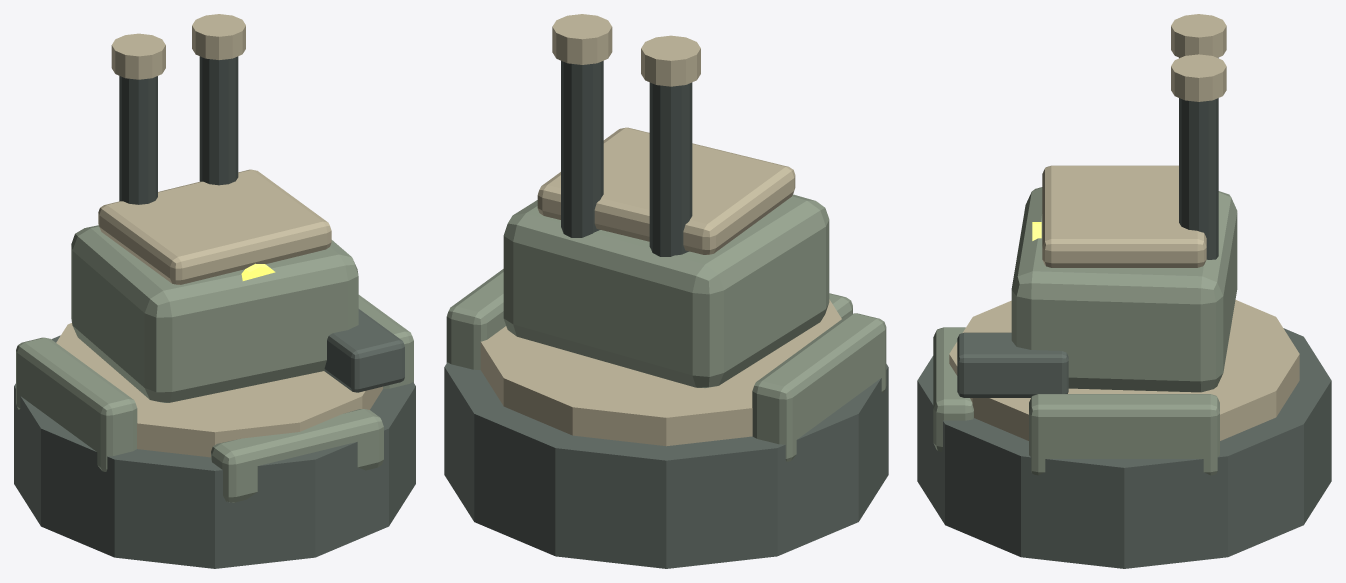
The model's file is field_turret.glb.
3 renders of one model, left to right at view 1: azimuth 30°, elevation 25°; view 2: azimuth 150°, elevation 25°; view 3: azimuth 270°, elevation 25°, orthographic. The views are drawn at different scales.
Visible parts, largest first — view 1: Base, TurretHousing, ArmorTop, RotationRing, SidePlateL, FrontPlate, Barrel_R, Barrel_L, CableBlock, Muzzle_L, Muzzle_R, SidePlateR; view 2: Base, TurretHousing, RotationRing, ArmorTop, SidePlateL, Barrel_L, Barrel_R, SidePlateR, Muzzle_R, Muzzle_L; view 3: Base, TurretHousing, ArmorTop, SidePlateR, RotationRing, CableBlock, Barrel_R, FrontPlate, Muzzle_R, Muzzle_L.
Part boxes in pixels (left/top/right/bottom): Base: left=14, top=335, right=415, bottom=568; TurretHousing: left=71, top=225, right=358, bottom=402; ArmorTop: left=98, top=169, right=331, bottom=284; RotationRing: left=56, top=323, right=382, bottom=457; SidePlateL: left=16, top=337, right=137, bottom=471; FrontPlate: left=211, top=409, right=383, bottom=502; Barrel_R: left=199, top=56, right=238, bottom=185; Barrel_L: left=119, top=76, right=157, bottom=204; CableBlock: left=324, top=309, right=404, bottom=392; Muzzle_L: left=111, top=33, right=165, bottom=79; Muzzle_R: left=192, top=14, right=245, bottom=59; SidePlateR: left=358, top=295, right=413, bottom=388; Base: left=444, top=362, right=888, bottom=568; TurretHousing: left=503, top=194, right=829, bottom=387; RotationRing: left=480, top=299, right=841, bottom=446; ArmorTop: left=537, top=127, right=795, bottom=254; SidePlateL: left=752, top=313, right=886, bottom=461; Barrel_L: left=649, top=82, right=692, bottom=256; Barrel_R: left=561, top=61, right=603, bottom=237; SidePlateR: left=446, top=269, right=505, bottom=369; Muzzle_R: left=552, top=14, right=612, bottom=64; Muzzle_L: left=641, top=35, right=700, bottom=86; Base: left=917, top=328, right=1331, bottom=568; TurretHousing: left=1011, top=187, right=1237, bottom=392; ArmorTop: left=1042, top=165, right=1206, bottom=267; SidePlateR: left=1029, top=394, right=1219, bottom=475; RotationRing: left=949, top=300, right=1299, bottom=440; CableBlock: left=957, top=332, right=1068, bottom=397; Barrel_R: left=1179, top=98, right=1218, bottom=259; FrontPlate: left=933, top=327, right=973, bottom=451; Muzzle_R: left=1171, top=54, right=1226, bottom=101; Muzzle_L: left=1171, top=14, right=1226, bottom=57.
Bounding box in the file's own units: 1.56 × 1.81 × 1.56.
